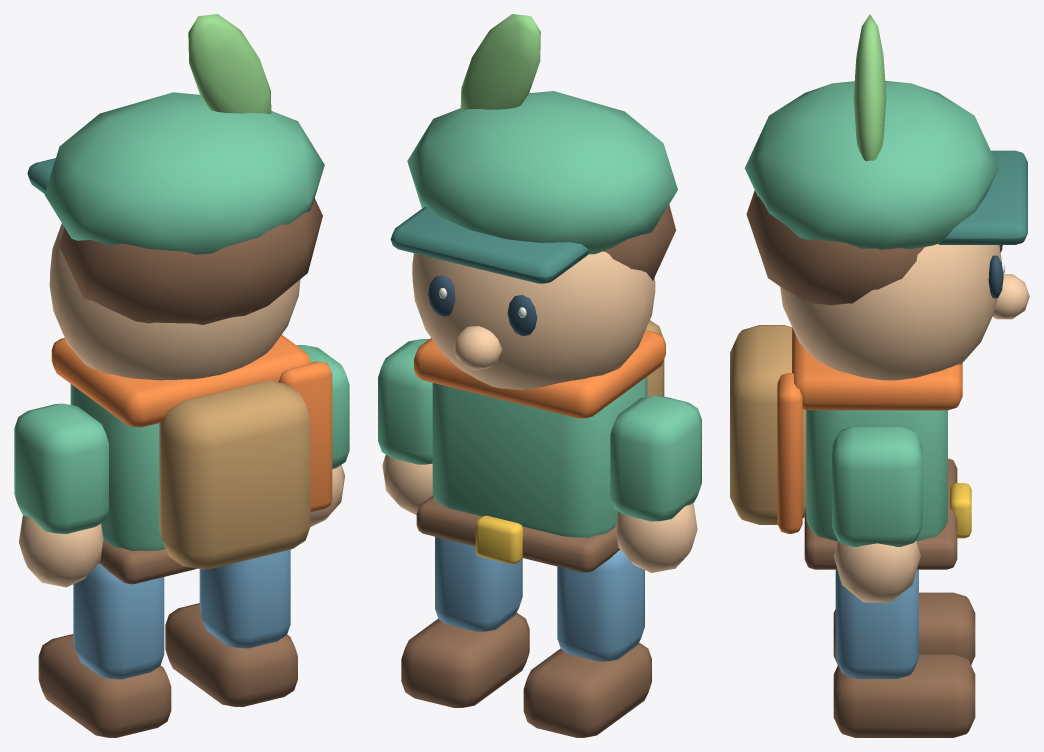
File: Hero.fbx
3 renders of one model, left to right at view 1: azimuth 30°, elevation 25°; view 2: azimuth 150°, elevation 25°; view 3: azimuth 270°, elevation 25°, orthographic. The views are drawn at different scales.
Parts seen in each view (by area): view 1: Cap, Backpack, Hair, Head, SleeveL, TrouserL, BootL, BootR, Scarf, Tunic, TrouserR, CapLeaf (+6 smaller); view 2: Cap, Tunic, Head, SleeveL, BootR, BootL, TrouserL, CapBrim, Scarf, TrouserR, CapLeaf, SleeveR (+9 smaller); view 3: Cap, Head, SleeveR, Backpack, BootR, Hair, Tunic, TrouserR, Scarf, CapBrim, HandR, ScarfTail (+6 smaller).
Part boxes in pixels (x1=…): Cap: x1=44, y1=92, x2=324, y2=254; Backpack: x1=159, y1=381, x2=310, y2=569; Hair: x1=59, y1=198, x2=322, y2=324; Head: x1=49, y1=223, x2=300, y2=380; SleeveL: x1=14, y1=403, x2=108, y2=533; TrouserL: x1=73, y1=563, x2=164, y2=679; BootL: x1=38, y1=634, x2=171, y2=737; BootR: x1=165, y1=603, x2=297, y2=706; Scarf: x1=51, y1=335, x2=311, y2=427; Tunic: x1=70, y1=384, x2=165, y2=550; TrouserR: x1=199, y1=549, x2=290, y2=648; CapLeaf: x1=188, y1=14, x2=271, y2=113; Cap: x1=407, y1=91, x2=677, y2=254; Tunic: x1=432, y1=377, x2=647, y2=537; Head: x1=412, y1=251, x2=655, y2=390; SleeveL: x1=610, y1=395, x2=701, y2=521; BootR: x1=401, y1=613, x2=529, y2=707; BootL: x1=523, y1=642, x2=651, y2=737; TrouserL: x1=557, y1=549, x2=644, y2=661; CapBrim: x1=390, y1=206, x2=588, y2=283; Scarf: x1=414, y1=330, x2=665, y2=418; TrouserR: x1=435, y1=536, x2=522, y2=631; CapLeaf: x1=460, y1=14, x2=540, y2=110; SleeveR: x1=378, y1=339, x2=432, y2=464; Cap: x1=744, y1=81, x2=998, y2=249; Head: x1=780, y1=244, x2=1001, y2=380; SleeveR: x1=832, y1=426, x2=922, y2=546; Backpack: x1=730, y1=325, x2=806, y2=524; BootR: x1=833, y1=654, x2=975, y2=737; Hair: x1=746, y1=190, x2=924, y2=305; Tunic: x1=806, y1=410, x2=947, y2=541; TrouserR: x1=835, y1=569, x2=918, y2=678; Scarf: x1=792, y1=327, x2=962, y2=410; CapBrim: x1=938, y1=150, x2=1027, y2=244; HandR: x1=833, y1=540, x2=920, y2=602; ScarfTail: x1=777, y1=373, x2=802, y2=533.
Bounding box in the file's own units: 0.9883 × 2.09 × 0.825.
